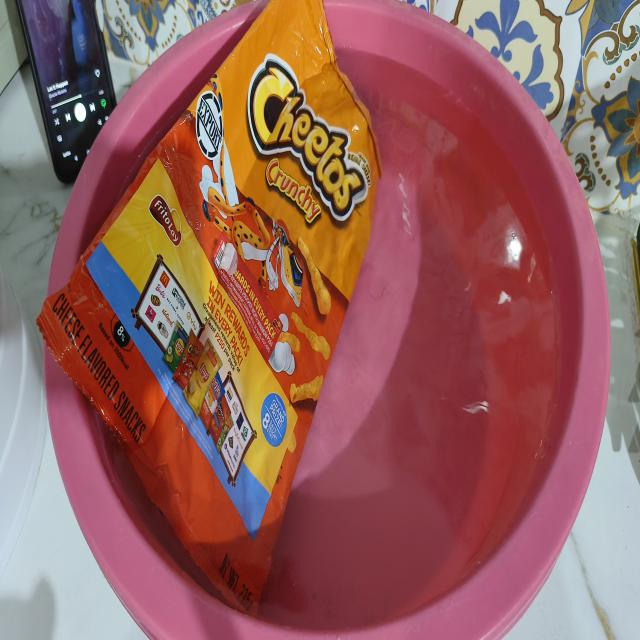Plastic Wrapper: (39, 1, 382, 609)
